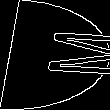M_W: (4, 29, 106, 81)
